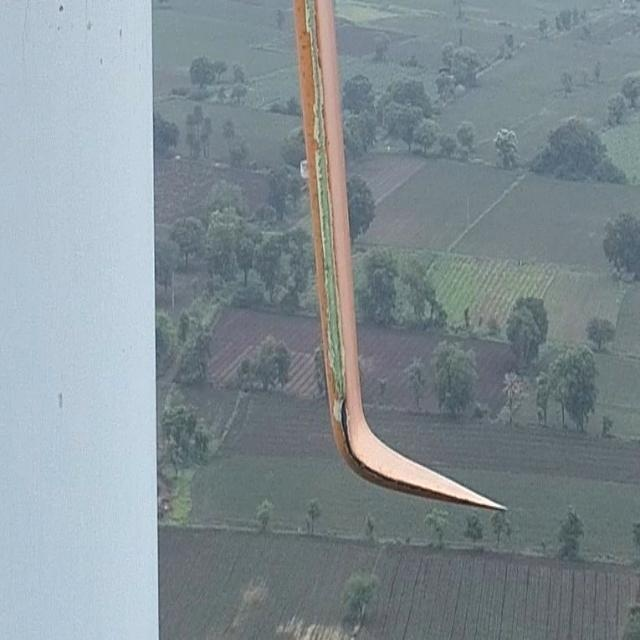EROSION: (304, 13, 344, 399), (330, 399, 373, 476)
